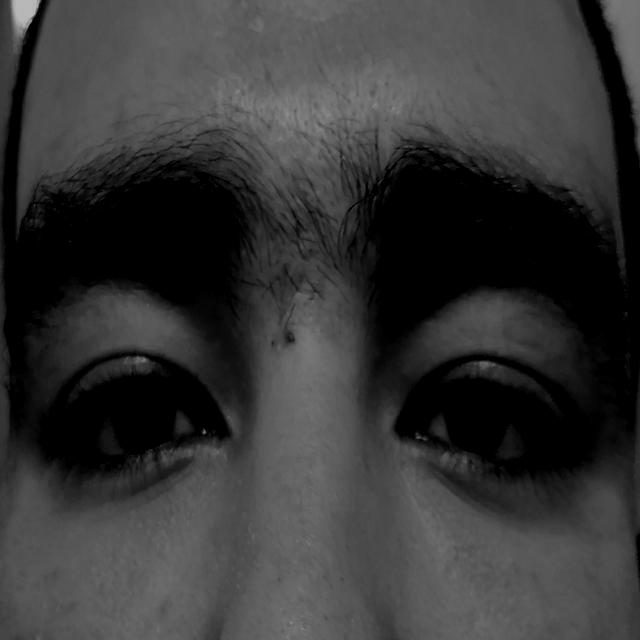real: (22, 166, 621, 572)
